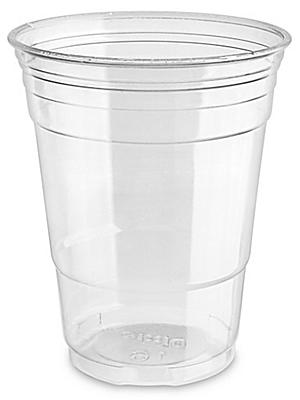plastic_glass: (5, 8, 300, 393)
